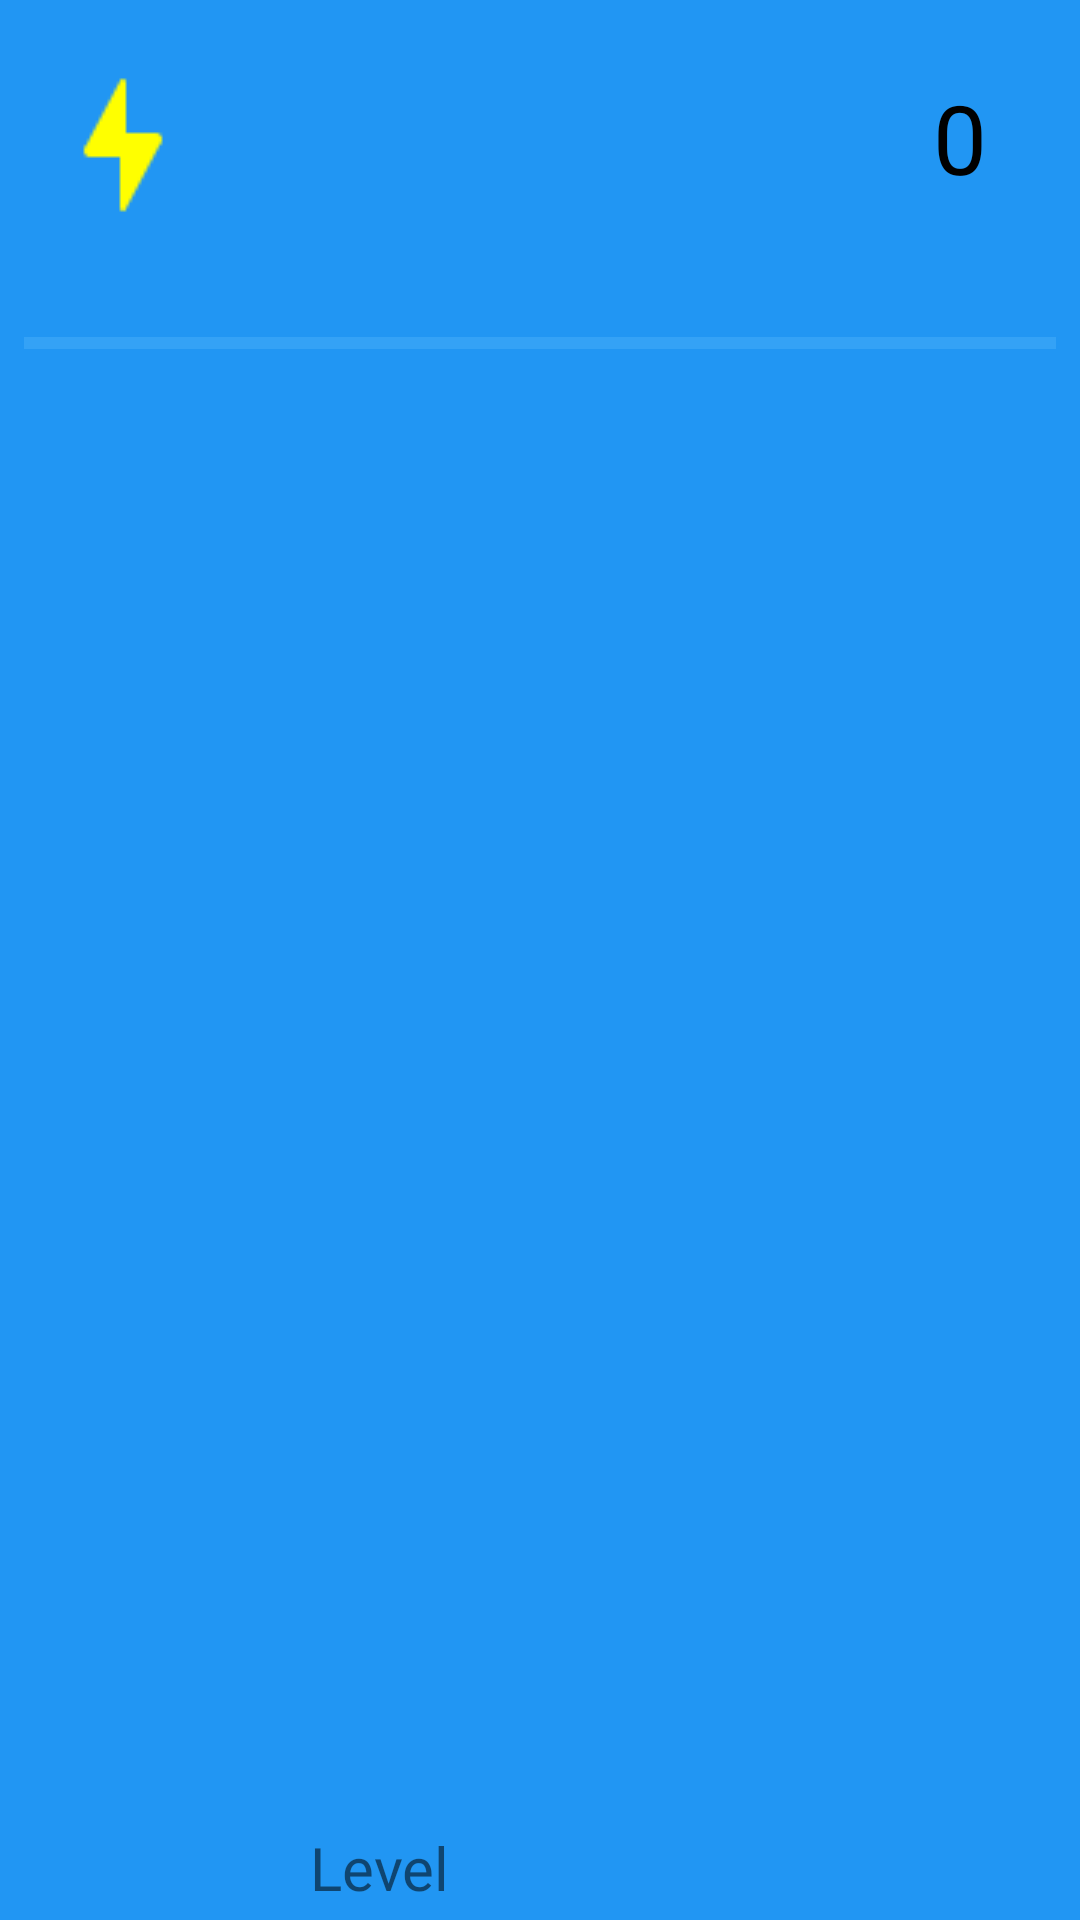

Icon click points for this 1080w x 1920h phone screenshot, format (x=x, y=y):
lightning bolt: (x=123, y=145)
